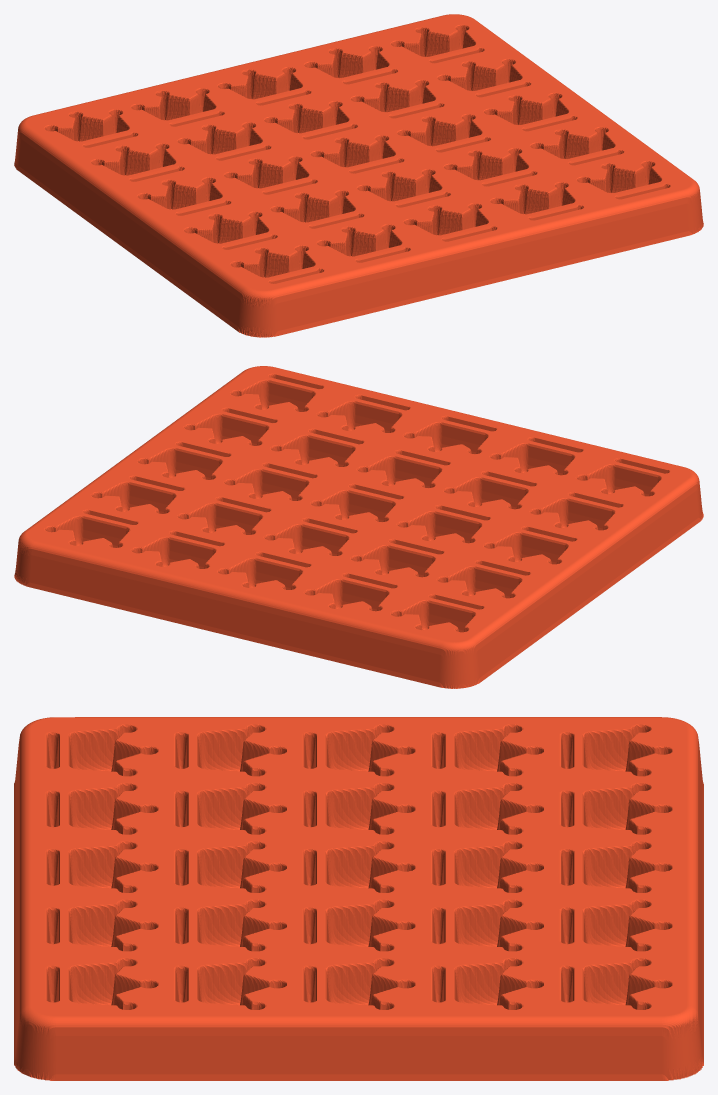
Rendered from mold.glb.
3 views of the same model, one above another, from view 1: azimuth 30°, elevation 25°; view 2: azimuth 150°, elevation 25°; view 3: azimuth 270°, elevation 25° (orthographic). The views are drawn at different scales.
Parts seen in each view (by area): view 1: geometry_0; view 2: geometry_0; view 3: geometry_0.
Part boxes in pixels (x1=…): geometry_0: x1=14, y1=14, x2=703, y2=337; geometry_0: x1=14, y1=366, x2=703, y2=688; geometry_0: x1=14, y1=717, x2=703, y2=1080.
Size of the model in its own units: 0.1584 by 0.0136 by 0.148.
